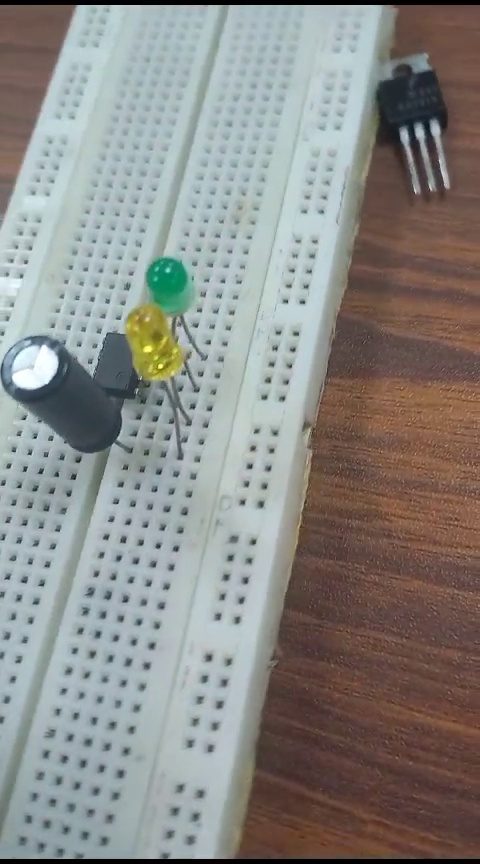IC: (92, 332, 138, 399)
LED: (120, 309, 199, 453), (139, 245, 192, 323)
capacitor: (3, 325, 110, 499)
voltage regulator: (370, 48, 458, 201)
